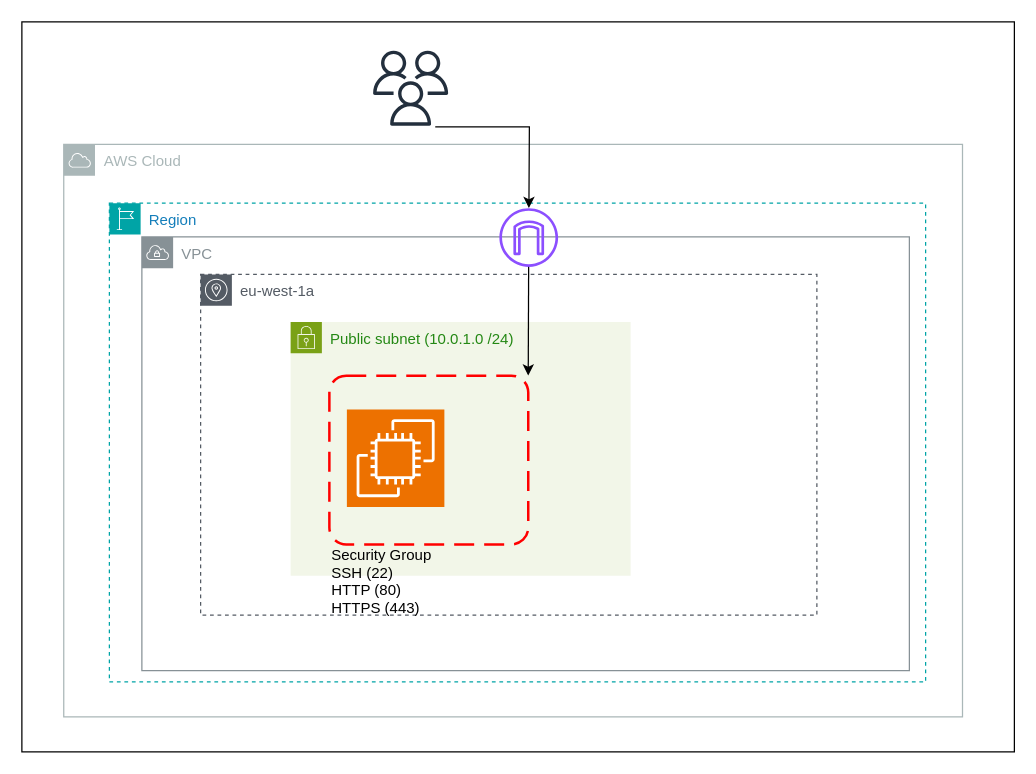
This 1036x774 diagram has some shape labels left out. The shapes that lost their labels are listed below. From the top down, each one's centre as x and y in pixels, then its label:
point (528, 237): Internet Gateway
point (395, 457): Nginx Node.Js MongoDB
